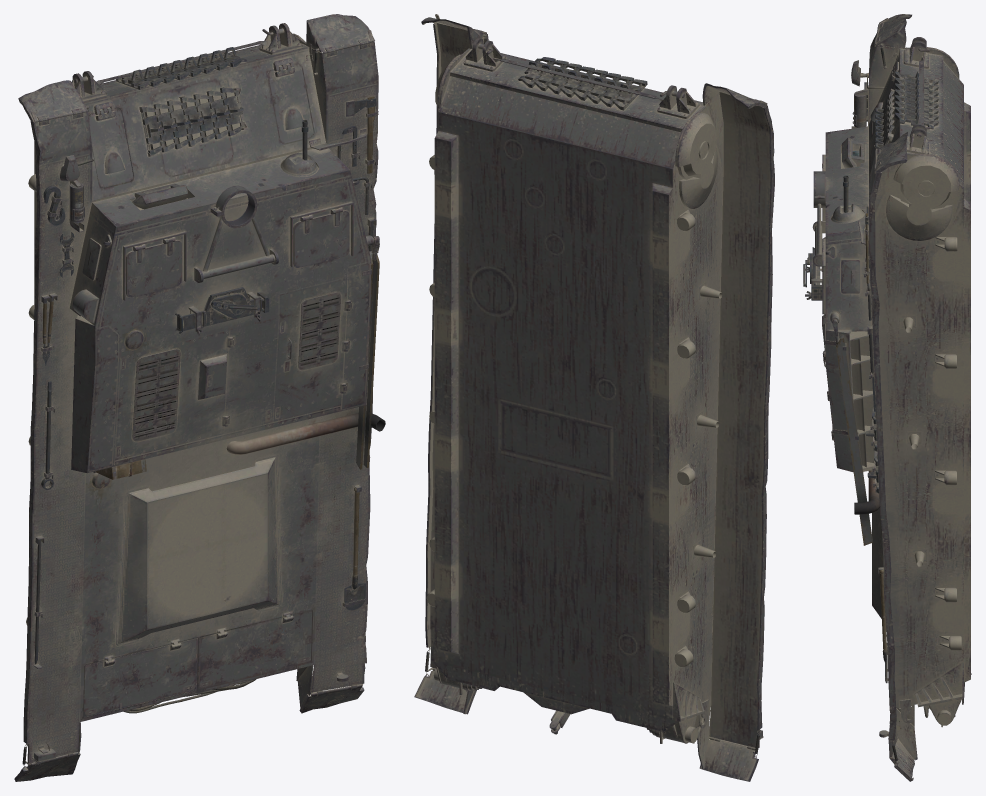
The model's file is Hull.glb.
The picture shows the model from 3 angles, left to right: view 1: azimuth 30°, elevation 25°; view 2: azimuth 150°, elevation 25°; view 3: azimuth 270°, elevation 25°; orthographic projection. The views are drawn at different scales.
Parts seen in each view (by area): view 1: set_0_group_0; view 2: set_0_group_0; view 3: set_0_group_0.
Part boxes in pixels (<box>): set_0_group_0: <box>14,14,385,781</box>; set_0_group_0: <box>414,14,774,781</box>; set_0_group_0: <box>803,14,971,781</box>.
Bounding box in the file's own units: 3.18 × 6.2 × 1.5.
1 material, 1 textured.
